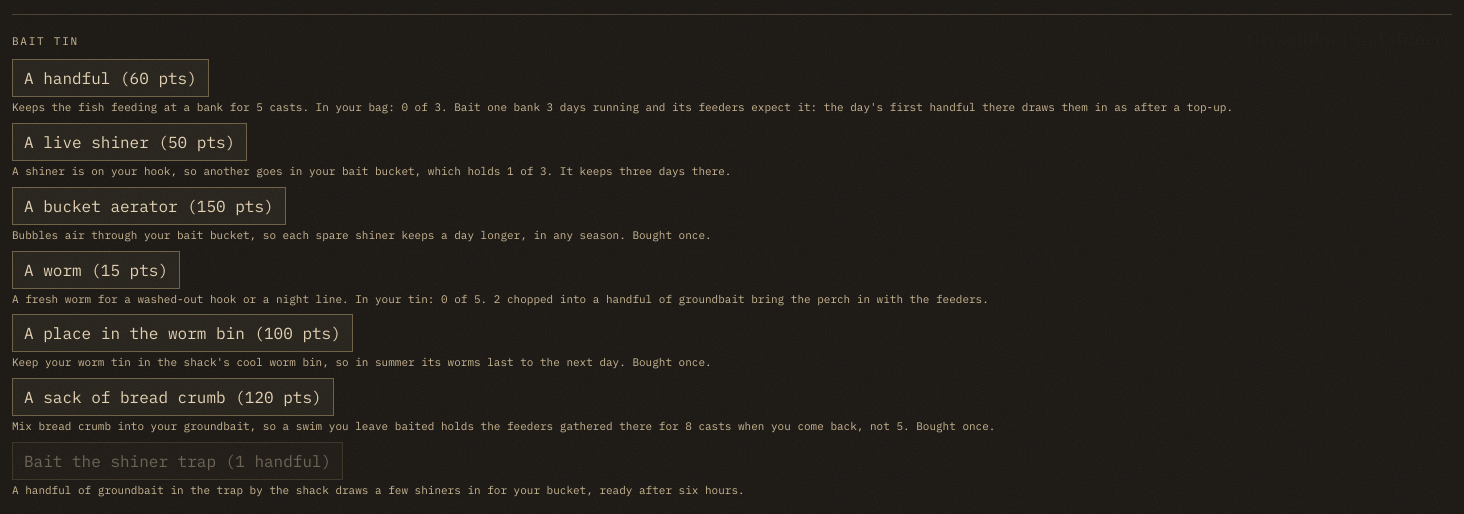
Test: BaitShop's bait bucket › sells a shiner into the bucket while one is on the hook, till the bucket is full
Click the button "A live shiner (50 pts)": click(130, 142) x1=12 y1=123 x2=247 y2=161
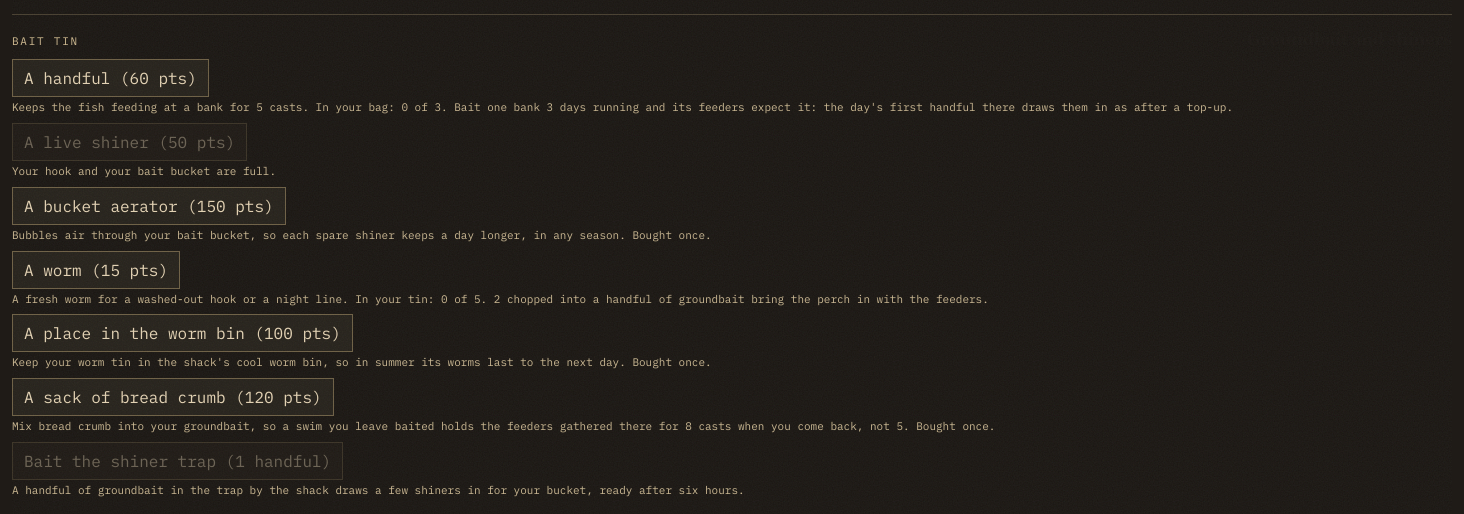
Now the text with id "shiner-shop-note" reads "Your hook and your bait bucket are full.", box x1=12 y1=164 x2=276 y2=178
